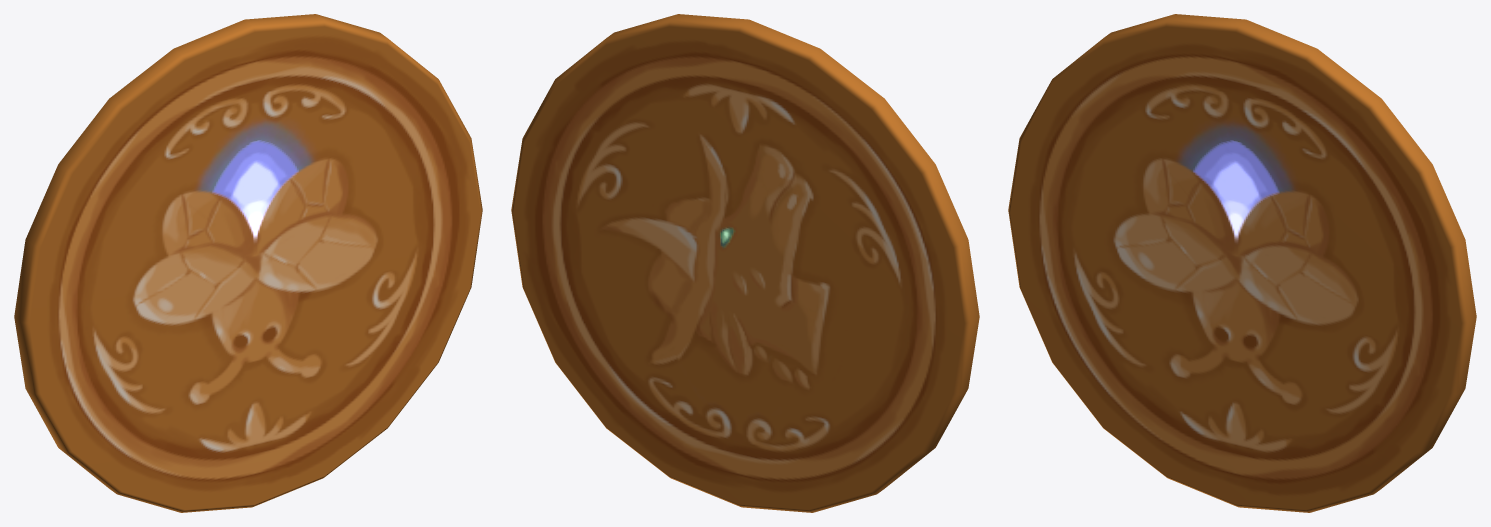
The model's file is dc-urik.glb.
The picture shows the model from 3 angles, left to right: view 1: azimuth 30°, elevation 25°; view 2: azimuth 150°, elevation 25°; view 3: azimuth 330°, elevation 25°; orthographic projection.
Visible parts, largest first — view 1: Mesh_0; view 2: Mesh_0; view 3: Mesh_0.
Boxes of the visible parts, x1,y1,x2,y2 form: Mesh_0: (14, 14, 482, 512); Mesh_0: (511, 14, 979, 512); Mesh_0: (1008, 14, 1476, 512).
Bounding box in the file's own units: 182 × 182 × 9.11.
1 material, 1 textured.
